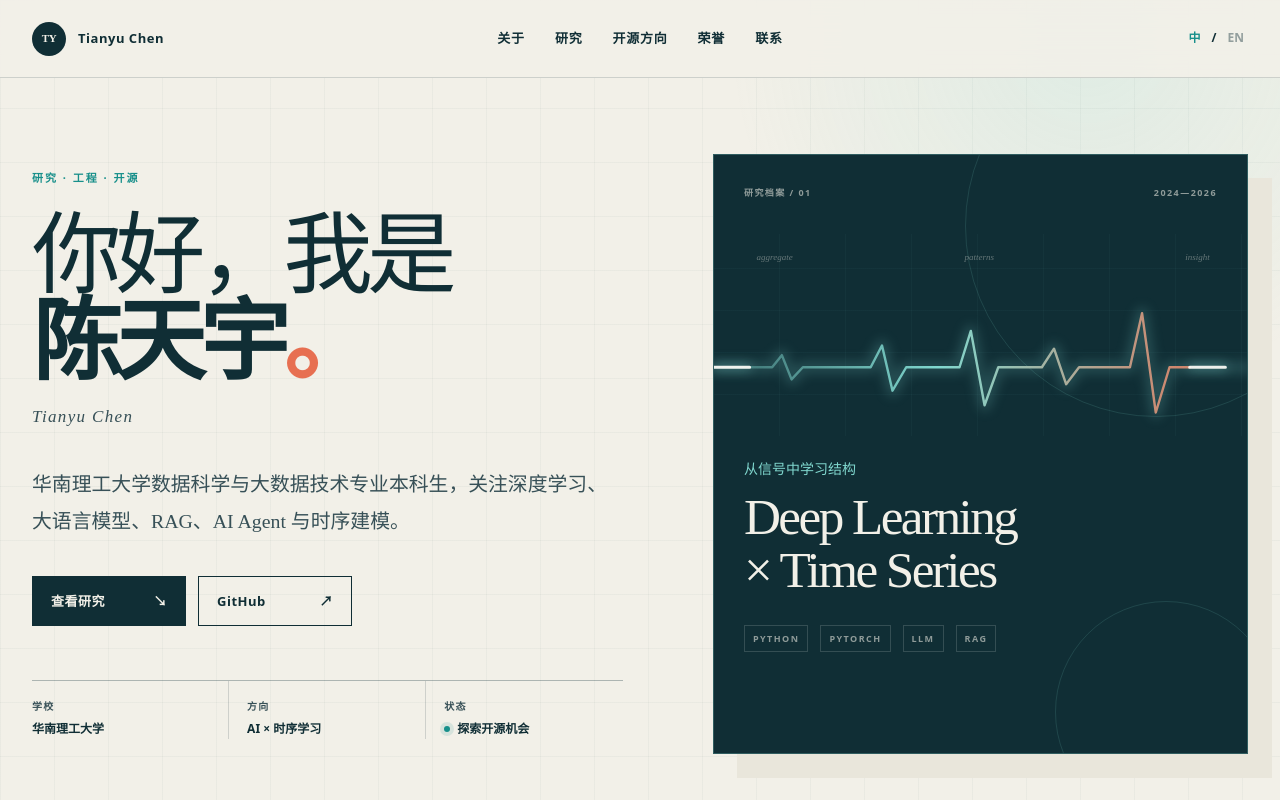
Test case: portfolio language › switches the public page to English and remembers the preference
Click the button named "Switch to English": [1236, 38] box [1224,24,1248,53]
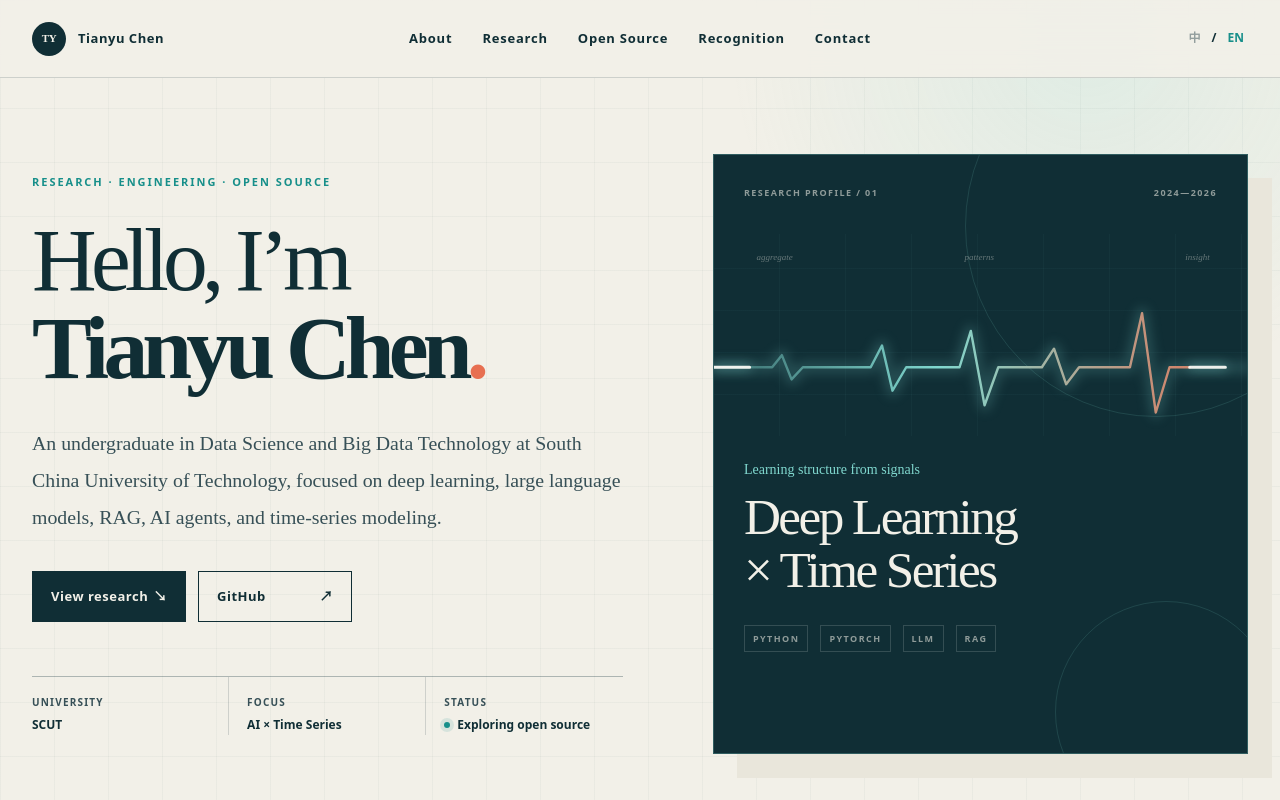
Check: the heading "Hello, I’m Tianyu Chen." is shown, box [32,210,483,397]
